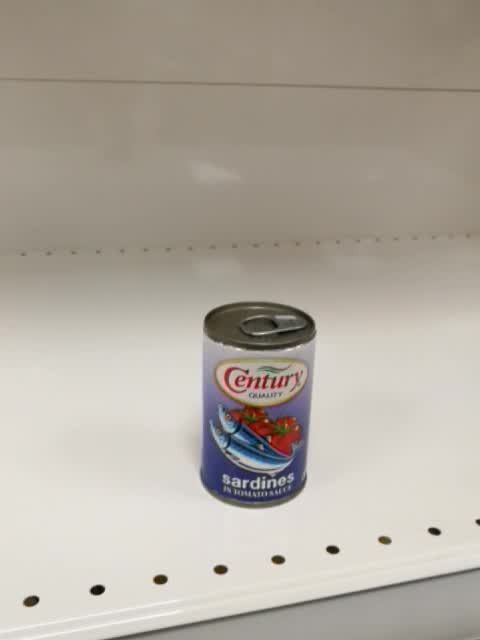sardine: (201, 300, 316, 511)
